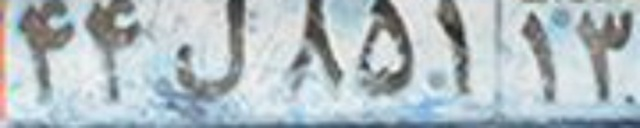1: (515, 10, 560, 103), (433, 0, 475, 92)
3: (573, 9, 634, 101)
4: (83, 0, 143, 98), (17, 1, 77, 93)
5: (353, 0, 415, 95)
8: (285, 1, 343, 93)
lam: (171, 0, 248, 95)
